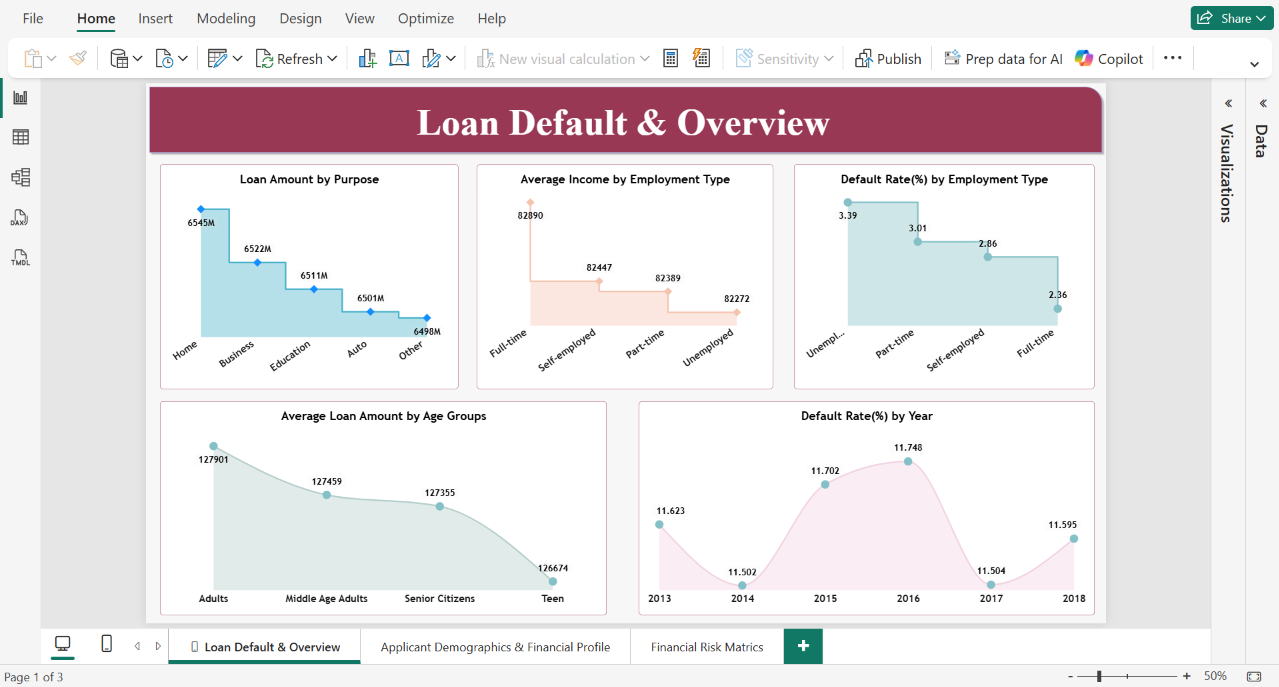

Layout of this report page (visuals, bound fields, positions):
{"tool":"powerbi","page":{"name":"Loan Default & Overview","canvas":[1920,1080],"ordinal":0},"visuals":[{"type":"shape","box":[0,0,1919.3,145.4],"z":0},{"type":"lineChart","title":"Loan Amount by Purpose","fields":{"Category":["Loan_default.LoanPurpose"],"Y":["Measures Table1.Loan Amount by Purpose"]},"box":[28.6,162.9,596.5,449],"z":1000},{"type":"lineChart","title":"Average Income by Employment Type","fields":{"Category":["Loan_default.EmploymentType"],"Y":["Measures Table1.Average Income by Employement type"]},"box":[662.5,162.9,592.1,449],"z":2000},{"type":"lineChart","title":"Default Rate(%) by Employment Type","fields":{"Category":["Loan_default.EmploymentType"],"Y":["Measures Table1.Default Rate by Employment Type"]},"box":[1296.5,162.9,600.9,449],"z":3000},{"type":"lineChart","title":"Average Loan Amount by Age Groups","fields":{"Category":["Loan_default.Age Group"],"Y":["Measures Table1.Average Loan by Age Group"]},"box":[28.6,636.1,893.7,427],"z":4000},{"type":"lineChart","title":"Default Rate(%) by Year","fields":{"Category":["Loan_default.Year"],"Y":["Measures Table1.Default Rate by Year"]},"box":[986.1,636.1,911.3,427],"z":5000}]}

Visuals, with their boxes on the page's 1920x1080 design canvas (x1, y1, x2, y2). These are canvas units, not pixel positions in the 1279x687 screenshot, which may show the page scaled, cropped or inside an application window:
shape: (x1=0, y1=0, x2=1919, y2=145)
"Loan Amount by Purpose" lineChart: (x1=29, y1=163, x2=625, y2=612)
"Average Income by Employment Type" lineChart: (x1=662, y1=163, x2=1255, y2=612)
"Default Rate(%) by Employment Type" lineChart: (x1=1296, y1=163, x2=1897, y2=612)
"Average Loan Amount by Age Groups" lineChart: (x1=29, y1=636, x2=922, y2=1063)
"Default Rate(%) by Year" lineChart: (x1=986, y1=636, x2=1897, y2=1063)
